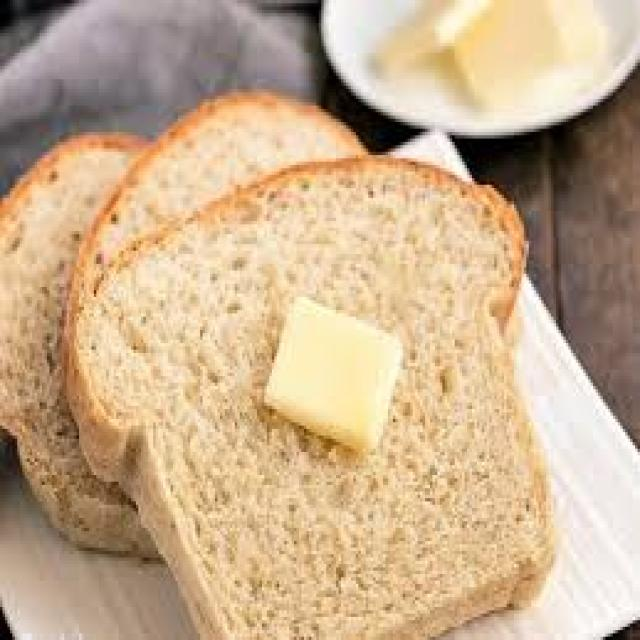Bread: (67, 160, 553, 637), (0, 140, 155, 557), (73, 92, 365, 295)
